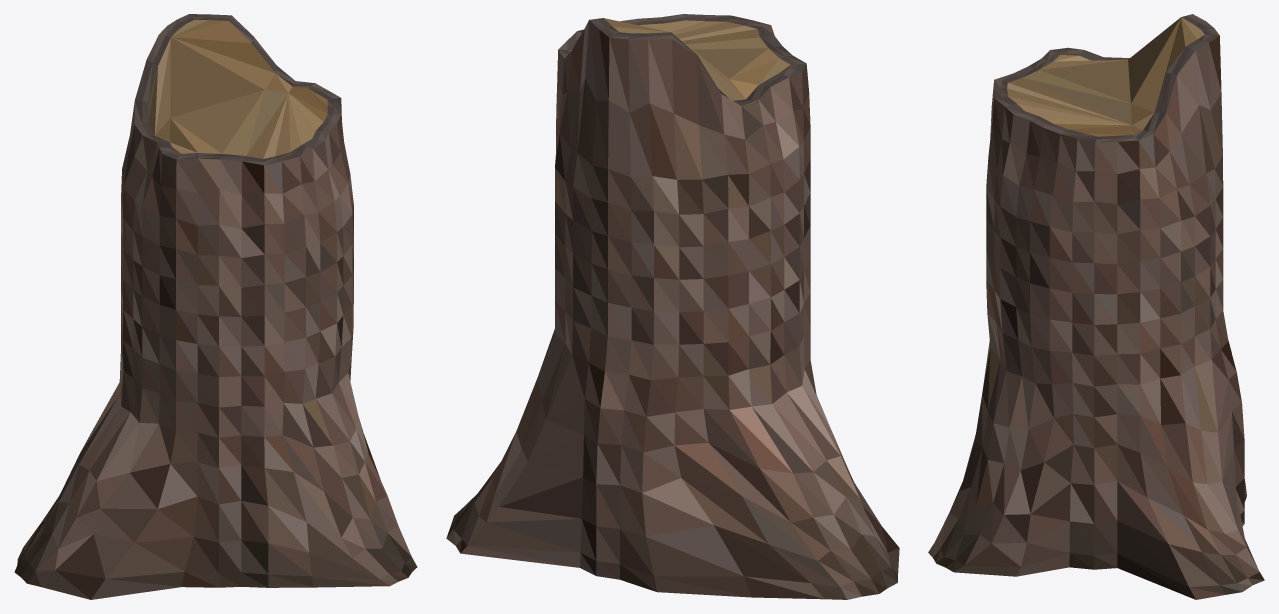
File: r32_stumpf_7.glb
3 renders of one model, left to right at view 1: azimuth 30°, elevation 25°; view 2: azimuth 150°, elevation 25°; view 3: azimuth 270°, elevation 25°, orthographic. The views are drawn at different scales.
Parts seen in each view (by area): view 1: stumpf; view 2: stumpf; view 3: stumpf.
Part boxes in pixels (bbox=[...]): stumpf: bbox=[14, 14, 417, 599]; stumpf: bbox=[446, 14, 899, 599]; stumpf: bbox=[928, 14, 1264, 599].
Bounding box in the file's own units: 0.7952 × 1 × 0.6249.
